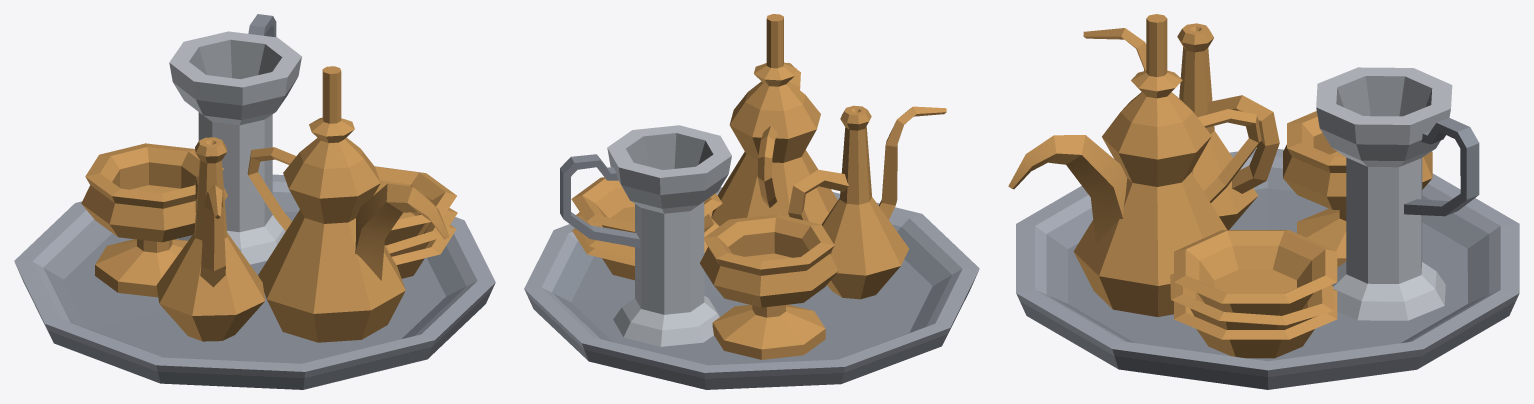
File: SM_Prop_Gold_Plates_Preset_06.fbx
The picture shows the model from 3 angles, left to right: view 1: azimuth 30°, elevation 25°; view 2: azimuth 150°, elevation 25°; view 3: azimuth 270°, elevation 25°; orthographic projection. The views are drawn at different scales.
Parts seen in each view (by area): view 1: SM_Prop_Gold_Plates_Preset_06; view 2: SM_Prop_Gold_Plates_Preset_06; view 3: SM_Prop_Gold_Plates_Preset_06.
Part boxes in pixels (<box>): SM_Prop_Gold_Plates_Preset_06: <box>14,14,495,389</box>; SM_Prop_Gold_Plates_Preset_06: <box>524,14,979,389</box>; SM_Prop_Gold_Plates_Preset_06: <box>1008,14,1519,389</box>.
Size of the model in its own units: 127 by 74.67 by 122.
